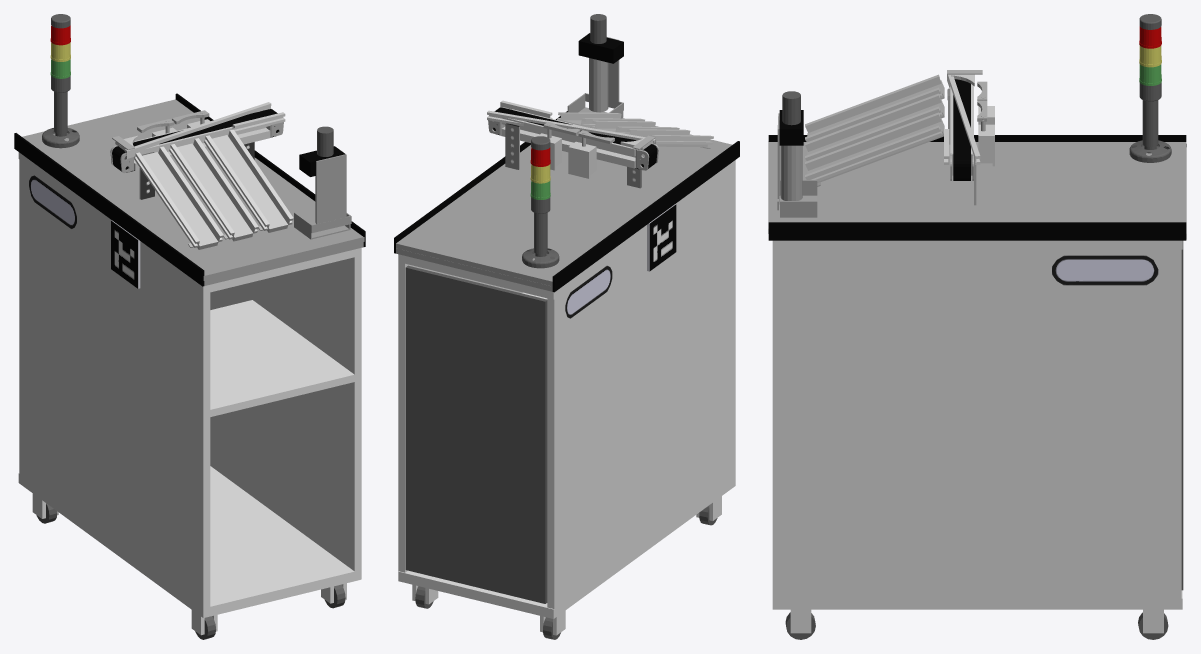
The model's file is mps_delivery_full.dae.
3 views of the same model, side by side, from view 1: azimuth 30°, elevation 25°; view 2: azimuth 150°, elevation 25°; view 3: azimuth 270°, elevation 25° (orthographic). The views are drawn at different scales.
Parts seen in each view (by area): view 1: ShapeIndexedFaceSet_334, ShapeIndexedFaceSet_333, ShapeIndexedFaceSet_367, ShapeIndexedFaceSet_332, ShapeIndexedFaceSet_330, ShapeIndexedFaceSet_365, ShapeIndexedFaceSet_335, ShapeIndexedFaceSet_495, ShapeIndexedFaceSet_185, ShapeIndexedFaceSet_244, ShapeIndexedFaceSet_303, ShapeIndexedFaceSet_576 (+15 smaller); view 2: ShapeIndexedFaceSet_334, ShapeIndexedFaceSet_528, ShapeIndexedFaceSet_367, ShapeIndexedFaceSet_365, ShapeIndexedFaceSet_333, ShapeIndexedFaceSet_335, ShapeIndexedFaceSet_332, ShapeIndexedFaceSet_576, ShapeIndexedFaceSet_336, ShapeIndexedFaceSet_491, ShapeIndexedFaceSet_434, ShapeIndexedFaceSet_366 (+9 smaller); view 3: ShapeIndexedFaceSet_333, ShapeIndexedFaceSet_367, ShapeIndexedFaceSet_366, ShapeIndexedFaceSet_338, ShapeIndexedFaceSet_441, ShapeIndexedFaceSet_365, ShapeIndexedFaceSet_491, ShapeIndexedFaceSet_528, ShapeIndexedFaceSet_230, ShapeIndexedFaceSet_289, ShapeIndexedFaceSet_303, ShapeIndexedFaceSet_575 (+10 smaller).
Boxes of the visible parts, x1,y1,x2,y2 form: ShapeIndexedFaceSet_334: (19,159,210,617); ShapeIndexedFaceSet_333: (210,248,361,578); ShapeIndexedFaceSet_367: (22,99,364,280); ShapeIndexedFaceSet_332: (18,466,361,617); ShapeIndexedFaceSet_330: (203,300,361,418); ShapeIndexedFaceSet_365: (14,133,204,286); ShapeIndexedFaceSet_335: (18,152,361,293); ShapeIndexedFaceSet_495: (316,154,346,224); ShapeIndexedFaceSet_185: (142,152,218,249); ShapeIndexedFaceSet_244: (177,143,253,241); ShapeIndexedFaceSet_303: (212,135,287,232); ShapeIndexedFaceSet_576: (111,221,137,288); ShapeIndexedFaceSet_334: (547,160,735,617); ShapeIndexedFaceSet_528: (405,265,547,603); ShapeIndexedFaceSet_367: (396,118,732,286); ShapeIndexedFaceSet_365: (552,141,739,292); ShapeIndexedFaceSet_333: (398,262,522,572); ShapeIndexedFaceSet_335: (398,165,728,299); ShapeIndexedFaceSet_332: (398,486,734,618); ShapeIndexedFaceSet_576: (649,204,676,271); ShapeIndexedFaceSet_336: (565,265,612,318); ShapeIndexedFaceSet_491: (589,58,608,112); ShapeIndexedFaceSet_434: (501,109,640,156); ShapeIndexedFaceSet_366: (394,111,567,253); ShapeIndexedFaceSet_333: (772,240,1181,609); ShapeIndexedFaceSet_367: (768,141,1186,233); ShapeIndexedFaceSet_366: (768,222,1186,240); ShapeIndexedFaceSet_338: (1052,255,1158,285); ShapeIndexedFaceSet_441: (953,79,970,180); ShapeIndexedFaceSet_365: (768,135,1186,146); ShapeIndexedFaceSet_491: (780,145,802,200); ShapeIndexedFaceSet_528: (1181,241,1183,590); ShapeIndexedFaceSet_230: (805,96,940,150); ShapeIndexedFaceSet_289: (805,114,941,169); ShapeIndexedFaceSet_303: (807,121,944,182); ShapeIndexedFaceSet_575: (1142,100,1158,146).
Bounding box in the file's own units: 0.3508 × 0.7002 × 1.03.
119 materials, 7 textured.
